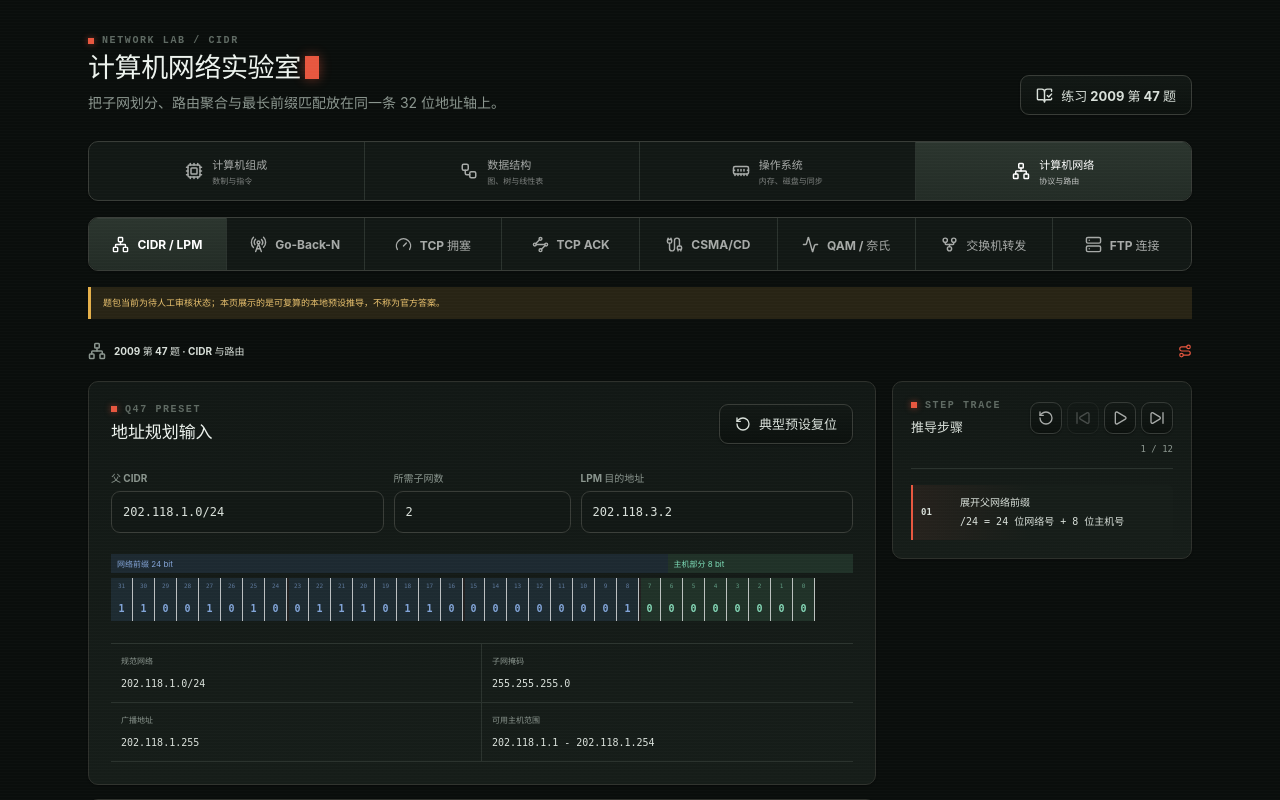
Test: NetworkLabPage CIDR and route boundaries › represents a /0 parent as 32 host bits without an empty prefix segment
In the field labelled "父 CIDR": coordinates (247, 512) [111,491,384,533], type "0.0.0.0/0"
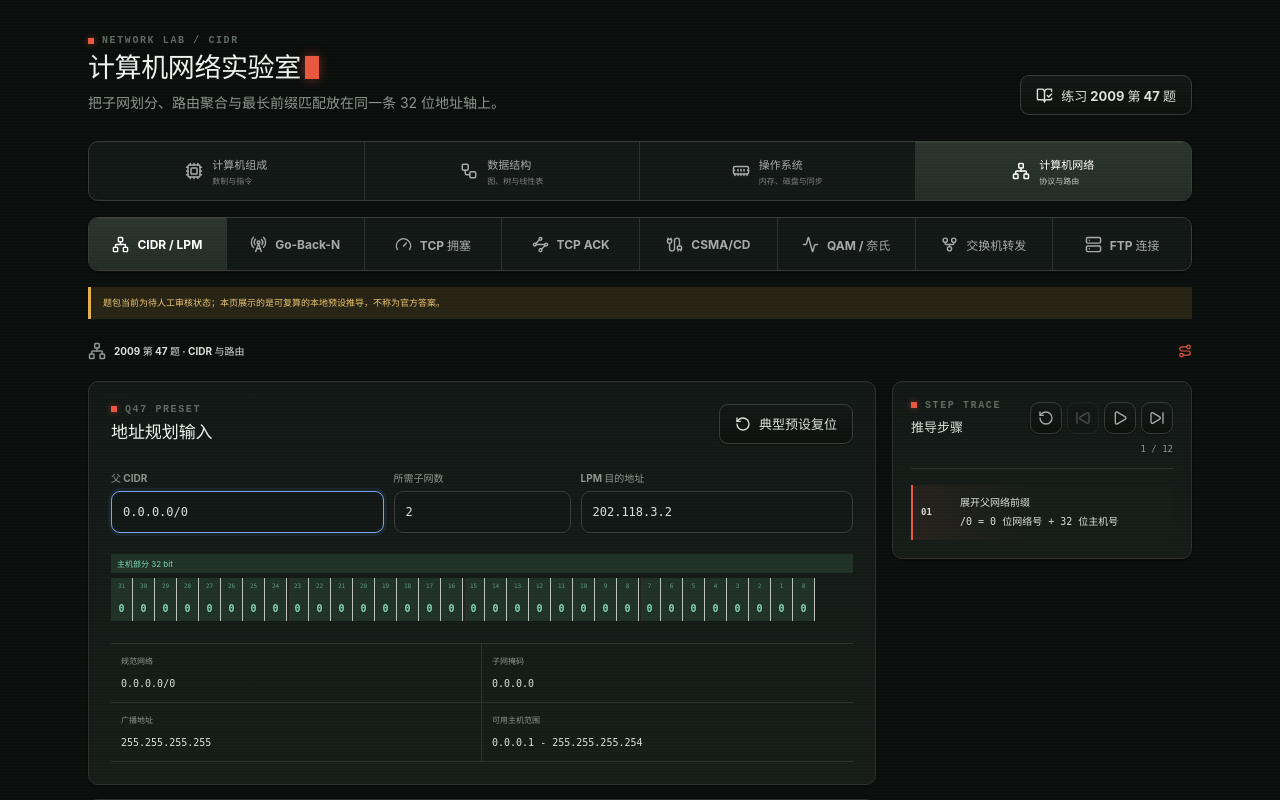
Expected: the element named "0.0.0.0/0 的 32 位地址" is shown, [111,549,853,631]
Expected: the text with class "host" reads "主机部分 32 bit", [111,554,853,573]
